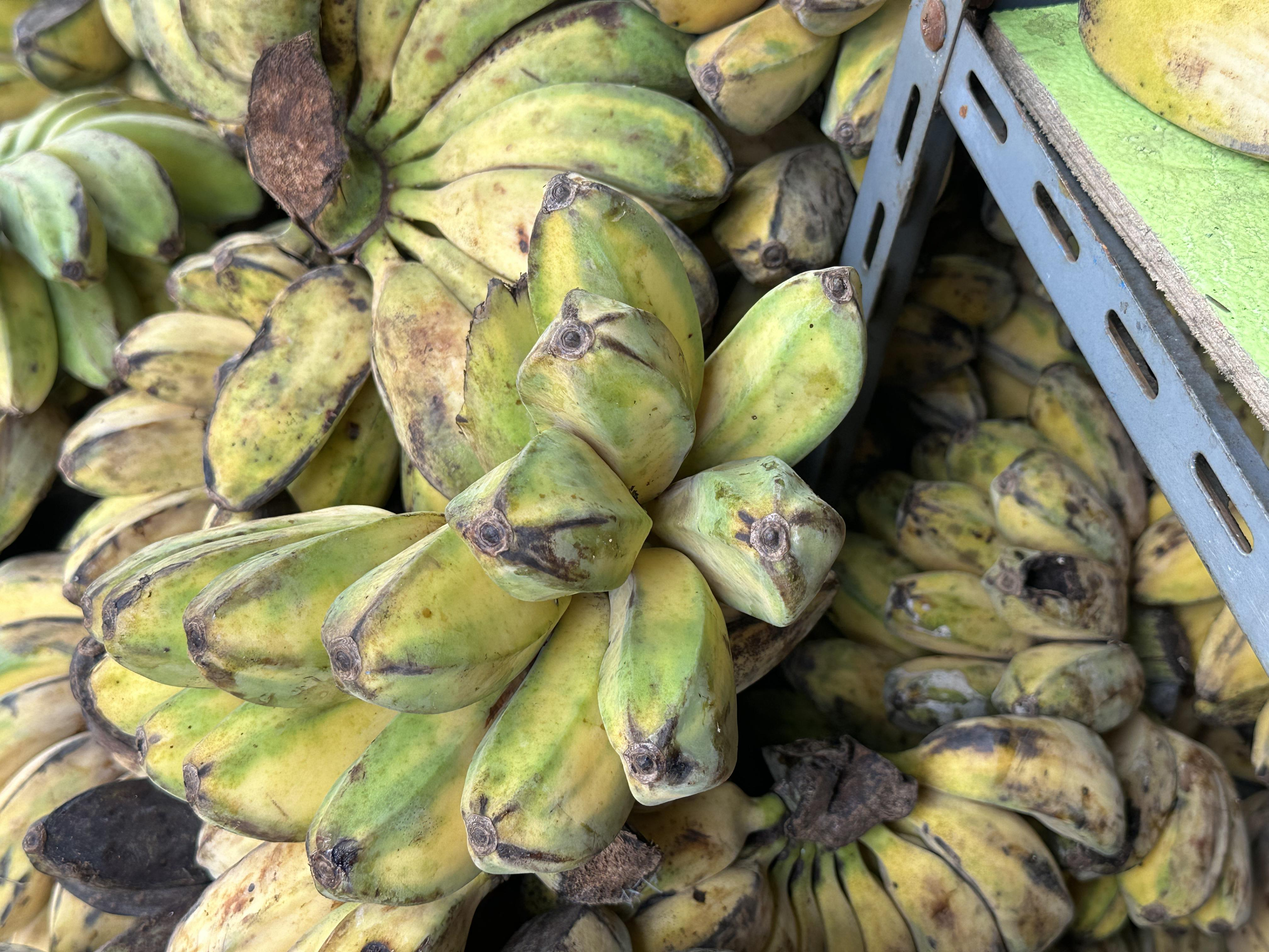overripe: (23, 635, 215, 952)
ripe: (621, 716, 1124, 952), (58, 229, 318, 604), (0, 553, 136, 952)
underripe: (83, 174, 864, 905), (94, 0, 736, 515), (781, 363, 1147, 752), (884, 365, 1147, 733), (0, 88, 263, 416), (1051, 713, 1252, 941), (648, 0, 910, 156), (882, 255, 1080, 427)
